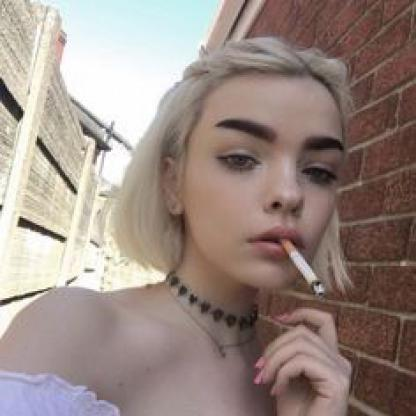cigarette: (282, 236, 328, 300)
person: (0, 39, 379, 414)
